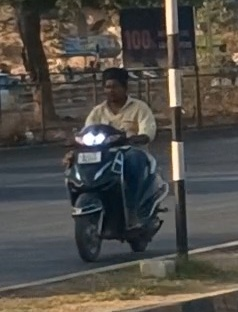BikeWithRider: (56, 62, 173, 265)
NoHelmet: (96, 63, 134, 105)
